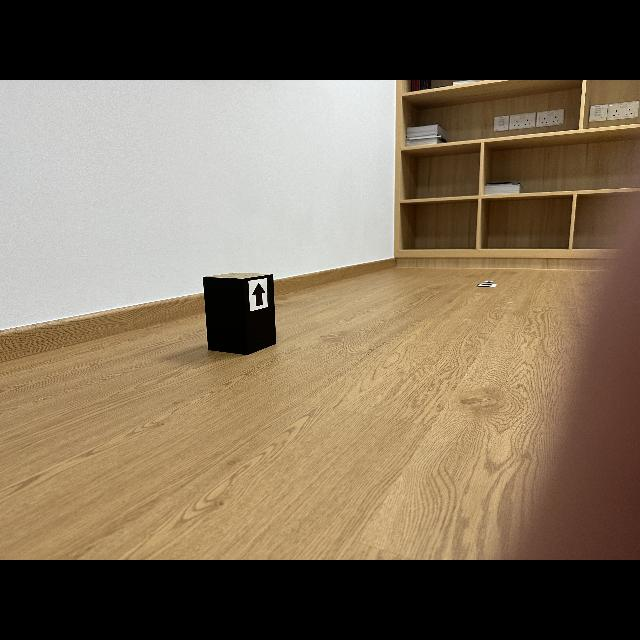UP: (252, 283, 266, 307)
